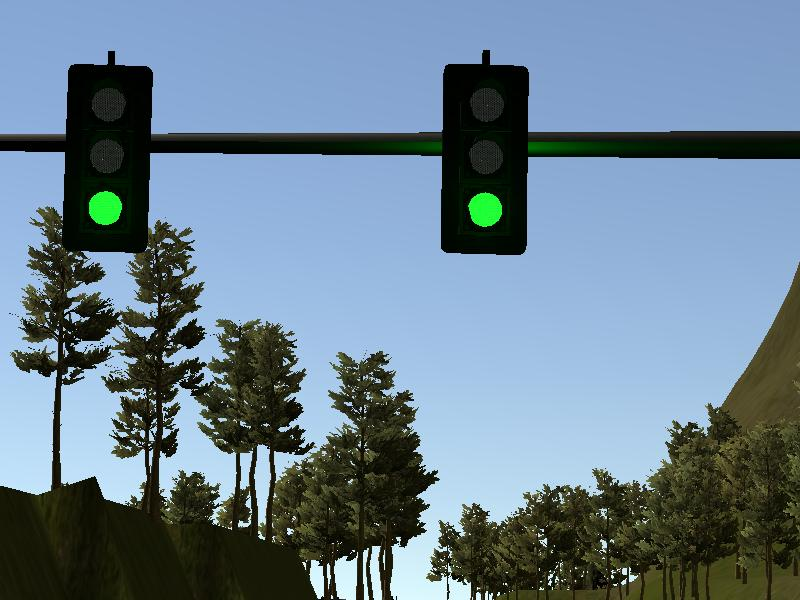green: (440, 61, 528, 256), (63, 61, 150, 254)
